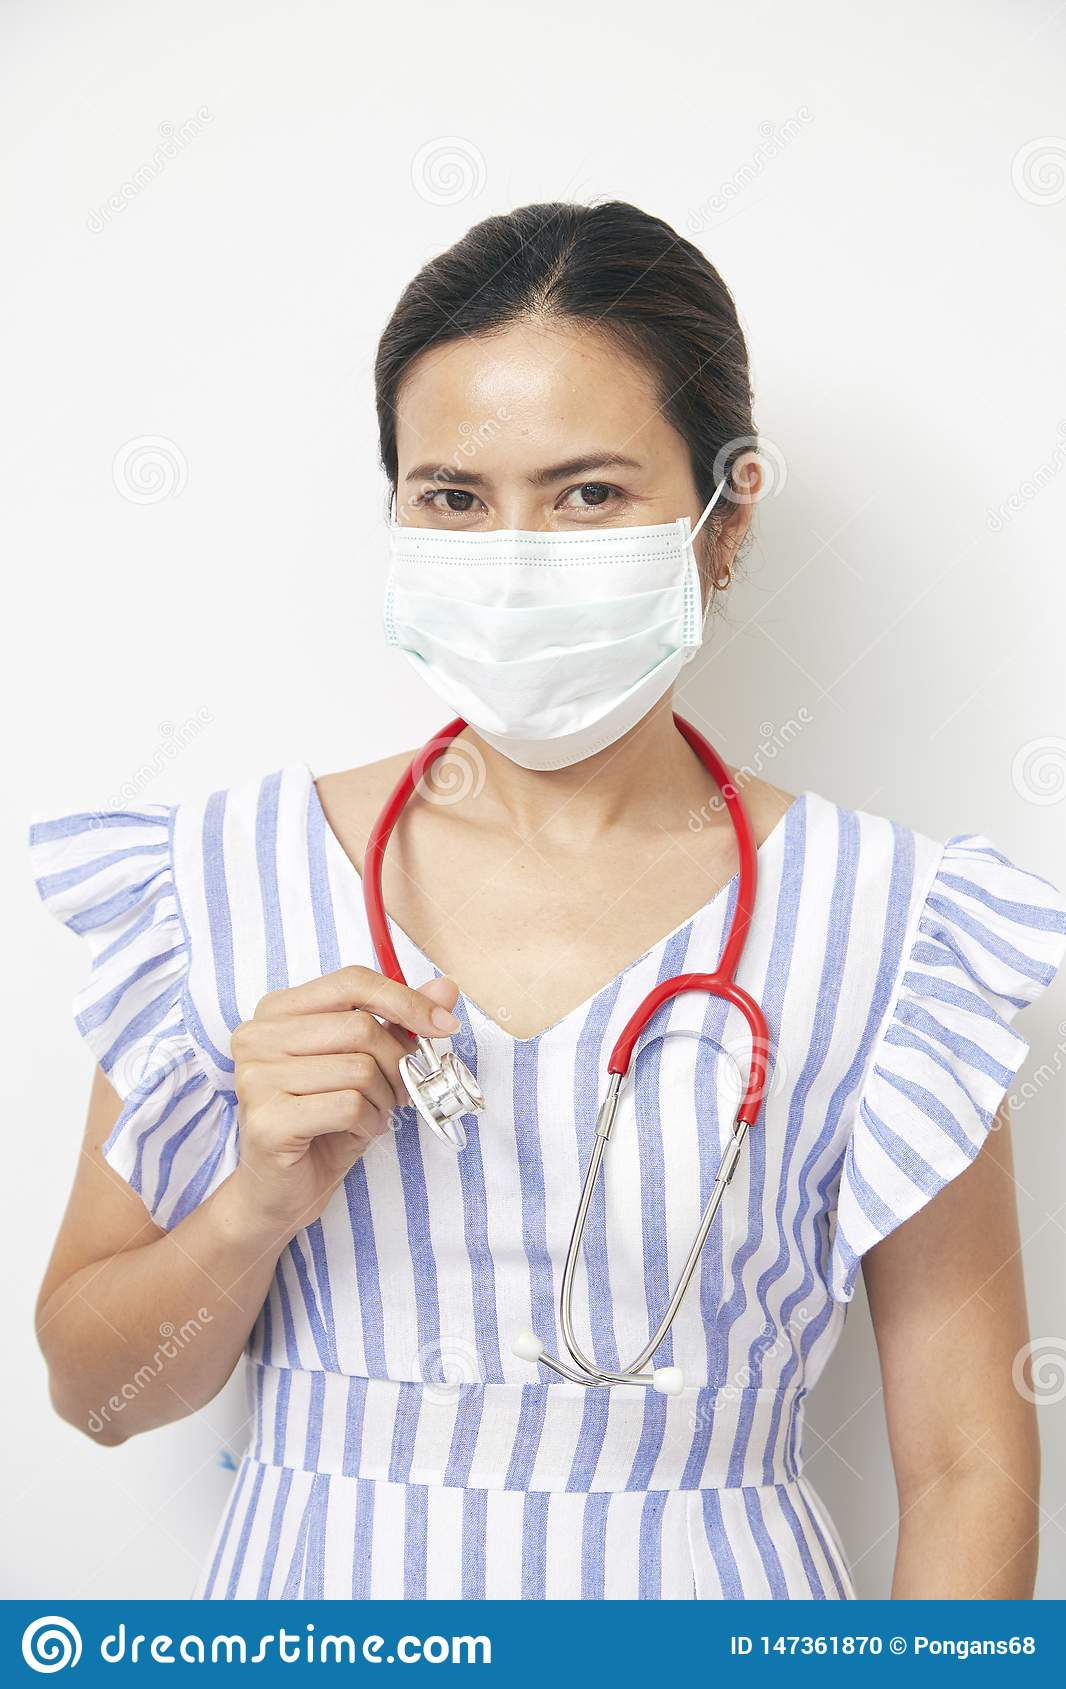mask: (386, 527, 715, 772)
